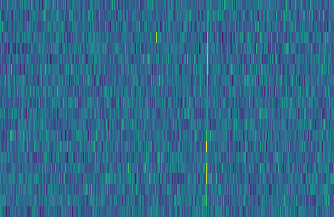signal: (202, 0, 213, 217)
